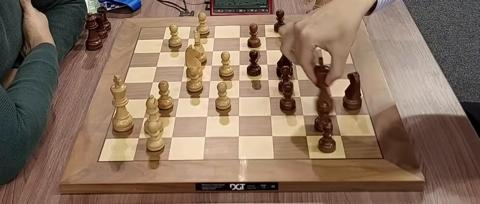xcorner: (264, 33, 270, 39), (238, 33, 244, 39), (161, 34, 167, 40), (211, 47, 217, 53), (184, 47, 190, 53), (322, 60, 328, 66), (154, 62, 160, 68), (296, 76, 302, 82), (208, 77, 214, 83), (179, 77, 185, 83), (150, 78, 156, 84), (329, 93, 335, 99), (237, 94, 243, 100), (301, 112, 307, 118), (269, 112, 275, 118), (304, 133, 310, 139), (270, 133, 276, 139), (203, 134, 209, 140), (169, 134, 175, 140), (316, 32, 321, 38), (212, 34, 218, 39), (187, 34, 192, 40), (292, 46, 297, 52), (265, 46, 270, 52), (238, 47, 244, 52), (294, 60, 299, 66), (238, 61, 243, 67), (210, 61, 215, 67), (182, 62, 188, 67), (325, 76, 331, 81), (267, 76, 272, 82), (237, 77, 243, 82), (299, 93, 304, 99), (268, 94, 274, 99), (207, 94, 212, 100), (176, 95, 182, 100), (146, 95, 151, 101), (237, 113, 243, 118), (205, 113, 210, 119), (141, 114, 146, 120), (338, 133, 344, 138), (290, 33, 295, 38), (319, 46, 324, 51), (158, 48, 163, 53), (266, 61, 271, 66), (334, 112, 339, 117), (173, 114, 178, 119), (237, 134, 242, 139), (136, 135, 141, 140)
